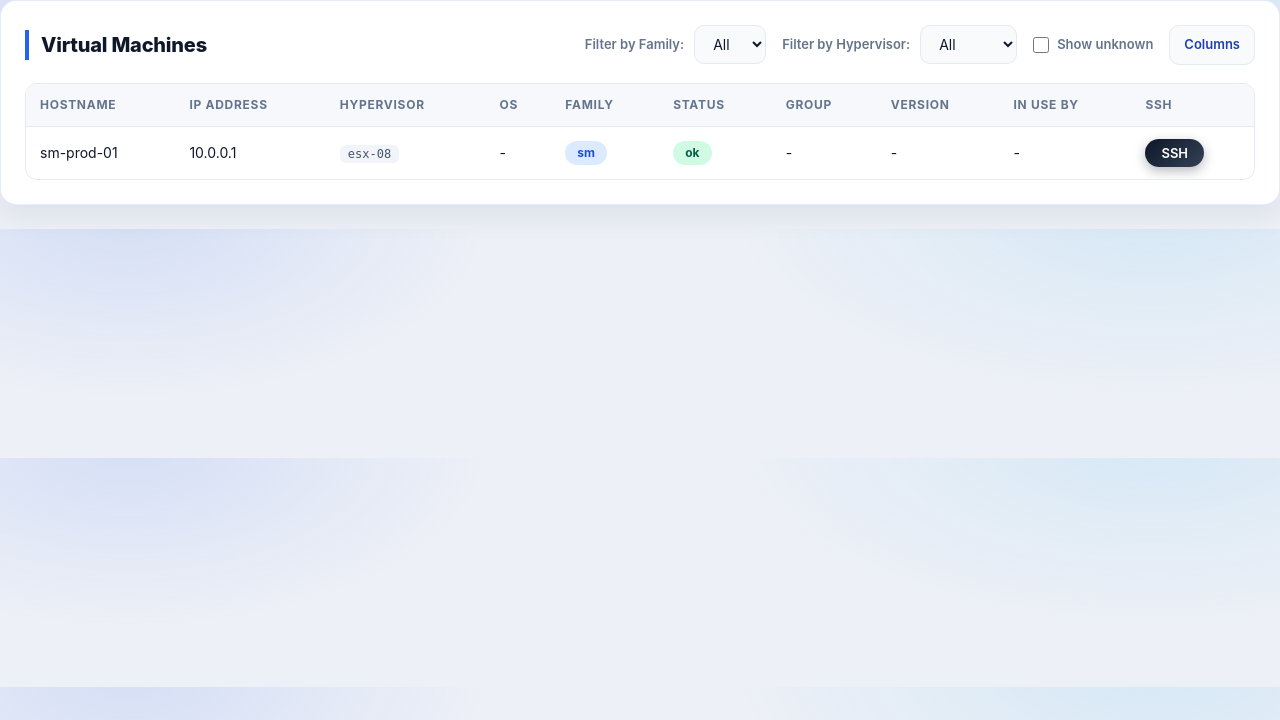
Scenario: VMTable › cache unknown par défaut, filtre par hyperviseur
Expected: the text "x-prod-01" is not shown
Click the checkbox labelled "Show unknown" at [1041, 45], box left=1033, top=37, right=1049, bottom=53
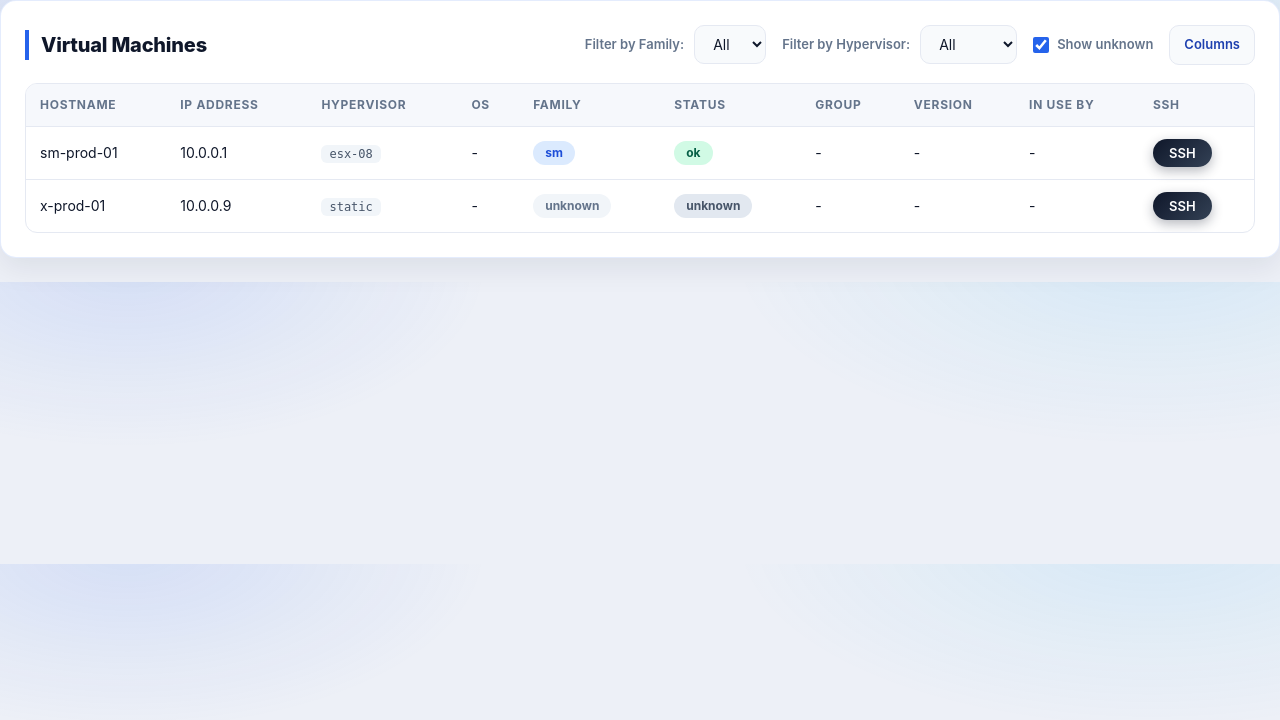
Now the text "x-prod-01" is shown, box left=26, top=180, right=166, bottom=232
Select "esx-08" in the dropdown labelled "Filter by Hypervisor:" at [969, 45], box left=920, top=25, right=1017, bottom=64
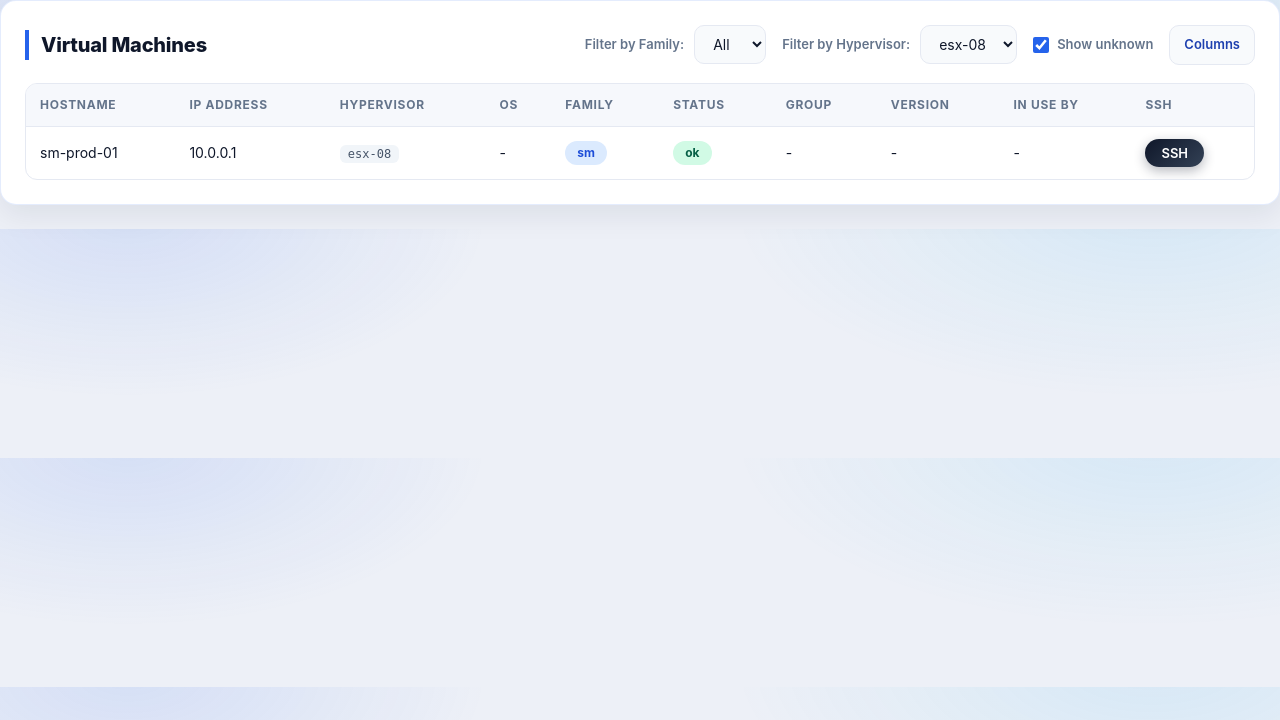
Expected: the text "sm-prod-01" is shown, left=26, top=126, right=175, bottom=178
Now the text "x-prod-01" is gone
